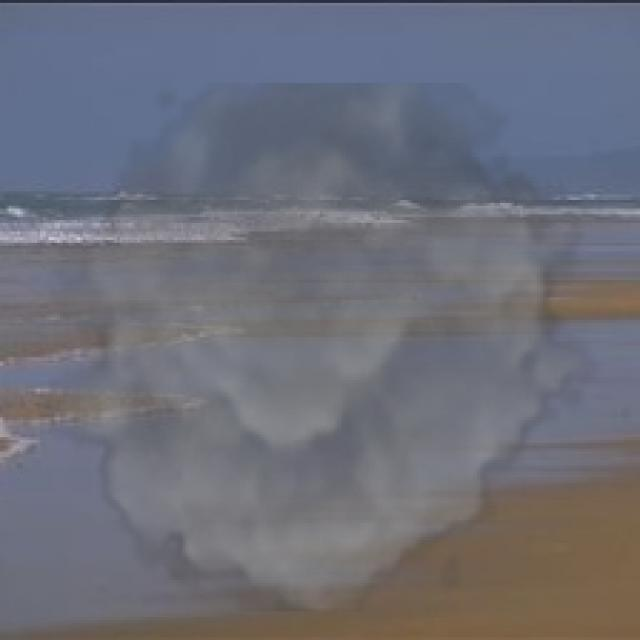smoke: (37, 83, 603, 611)
